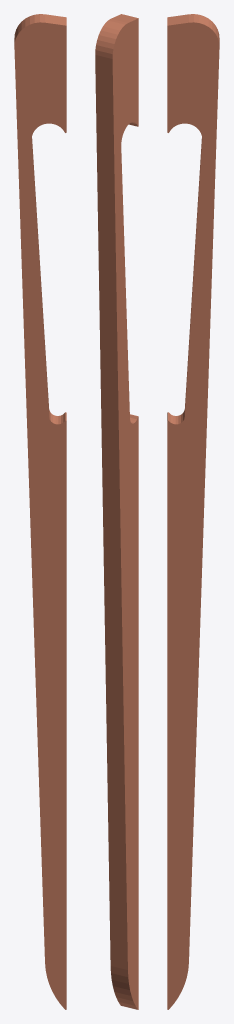
The model's file is 178 pvd r gold.glb.
3 views of the same model, side by side, from view 1: azimuth 90°, elevation 25°; view 2: azimuth 150°, elevation 25°; view 3: azimuth 270°, elevation 25° (orthographic).
Parts seen in each view (by area): view 1: CABINET_HANDLE_178; view 2: CABINET_HANDLE_178; view 3: CABINET_HANDLE_178.
Part boxes in pixels (bbox=[...]): CABINET_HANDLE_178: bbox=[14, 14, 66, 1009]; CABINET_HANDLE_178: bbox=[95, 14, 138, 1009]; CABINET_HANDLE_178: bbox=[167, 14, 219, 1009].
Size of the model in its own units: 0.1337 by 7.31 by 0.35.
